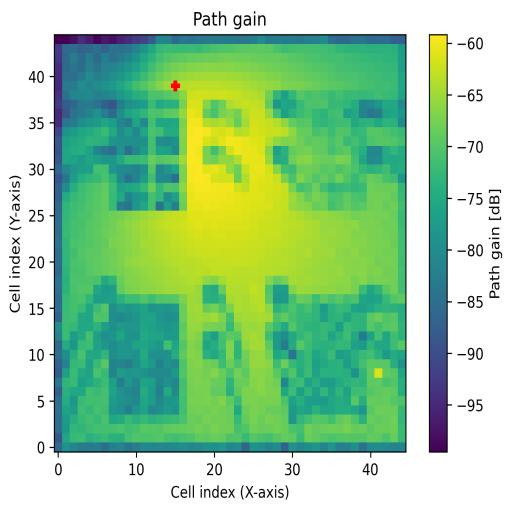Concrete: (290, 90, 367, 210)
Glass: (110, 91, 188, 211)
Metal: (288, 294, 368, 413)
Wood: (108, 304, 180, 413)
